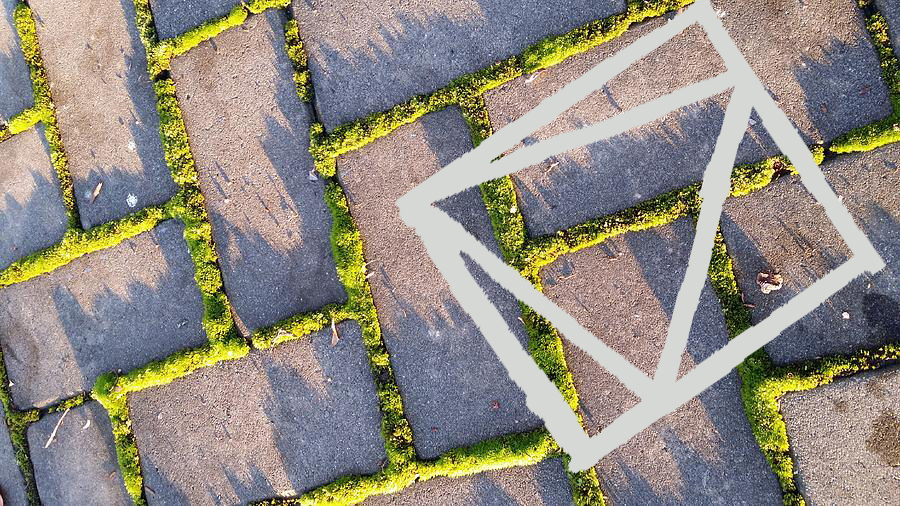marker: (389, 1, 889, 479)
